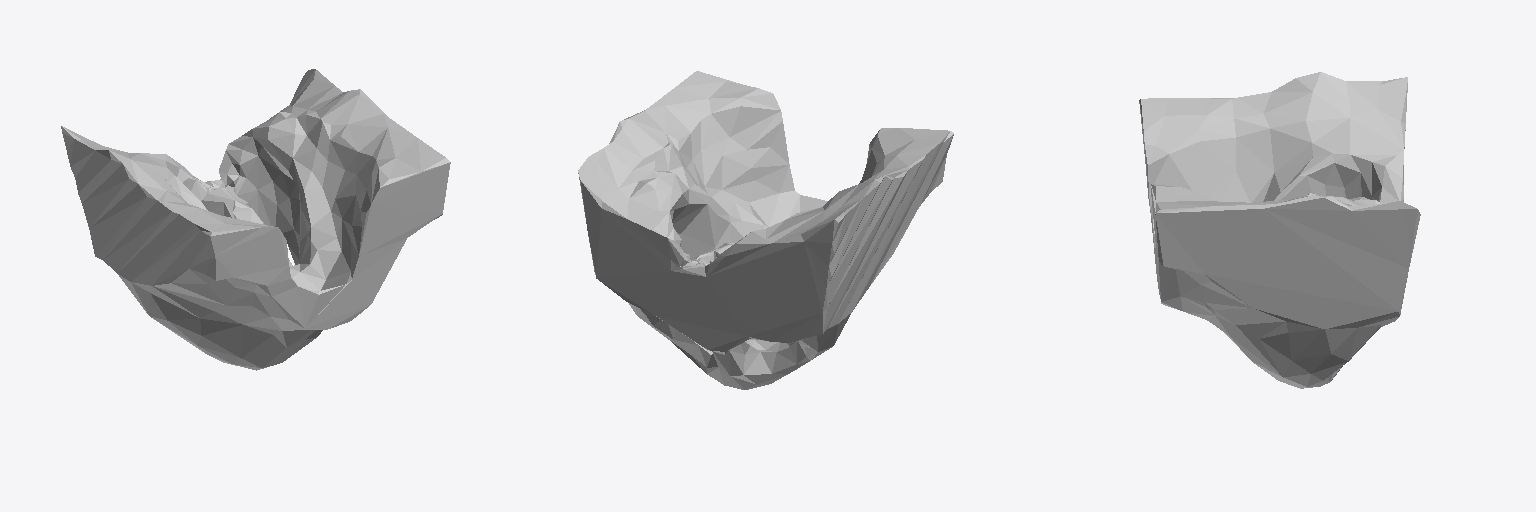
File: body_Nose.OBJ
3 views of the same model, side by side, from view 1: azimuth 30°, elevation 25°; view 2: azimuth 150°, elevation 25°; view 3: azimuth 270°, elevation 25° (orthographic).
Visible parts, largest first — view 1: body_Nose; view 2: body_Nose; view 3: body_Nose.
Boxes of the visible parts, x1=… form: body_Nose: x1=61, y1=69, x2=450, y2=370; body_Nose: x1=578, y1=71, x2=953, y2=389; body_Nose: x1=1139, y1=72, x2=1420, y2=388.
Bounding box in the file's own units: 52.47 × 46.3 × 48.34.